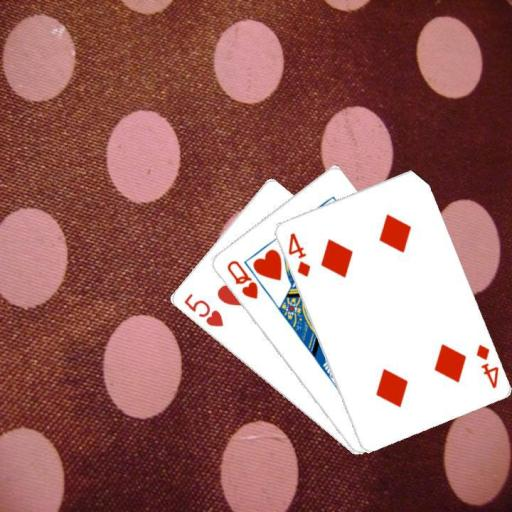4D: (472, 341, 500, 390), (285, 229, 312, 278)
5H: (180, 290, 225, 329)
QH: (223, 257, 260, 301)
